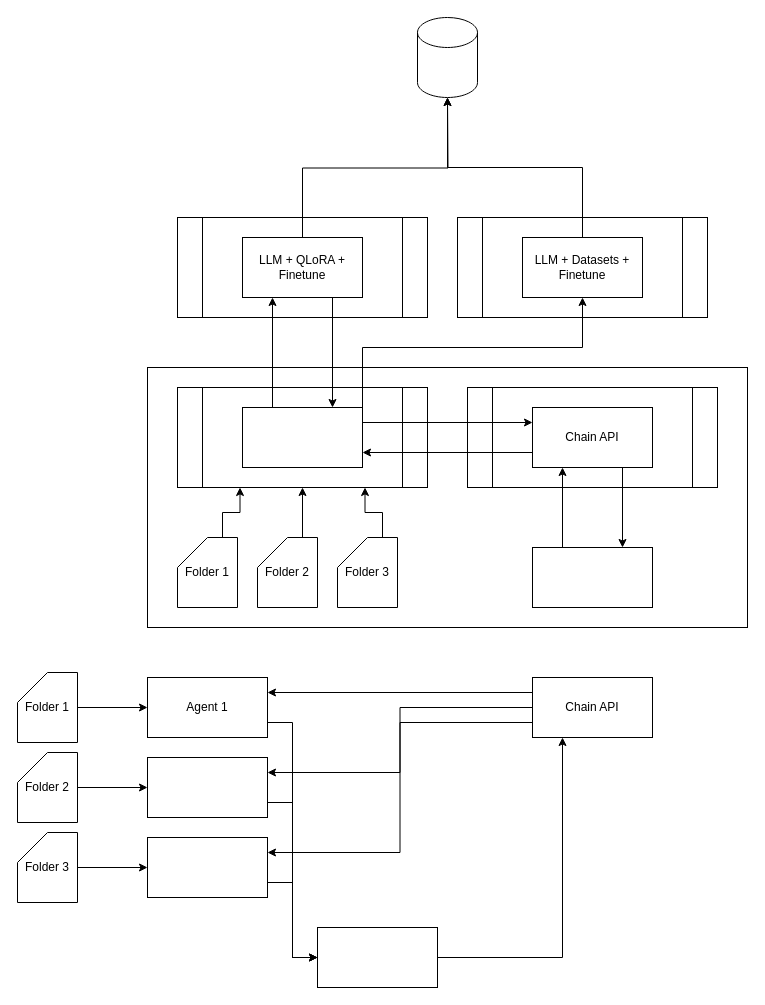
This 765x1005 diagram has some shape labels left out. Here are the shapes that lost their labels. From the top down, the centre of each, then its label:
the point at 302,437: Agents
the point at 592,577: Chat window
the point at 207,787: Tool 1
the point at 207,867: Tool 2
the point at 377,957: Coordinator Register of Agents, Tools
